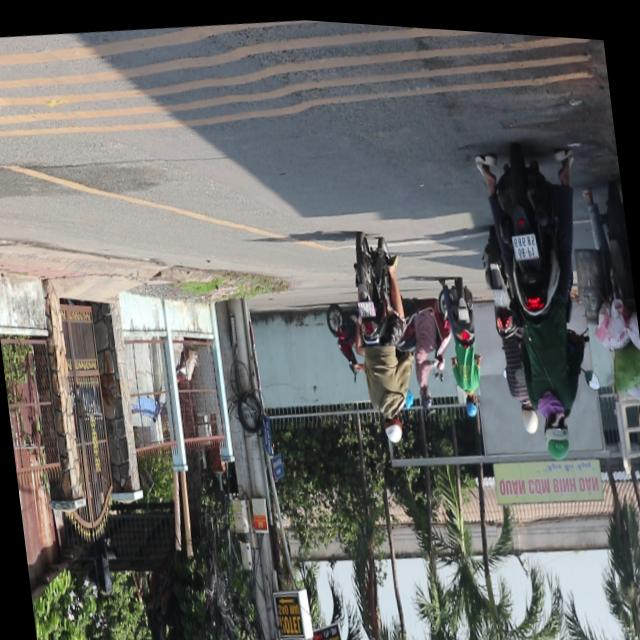helmet: (541, 406, 572, 457), (382, 408, 404, 442), (518, 394, 540, 428), (634, 391, 640, 433)
licenseplate: (480, 132, 606, 462), (342, 225, 423, 444), (580, 171, 640, 440), (478, 220, 538, 447)
nohelmet: (510, 225, 538, 256), (492, 281, 508, 302), (357, 296, 375, 313)
